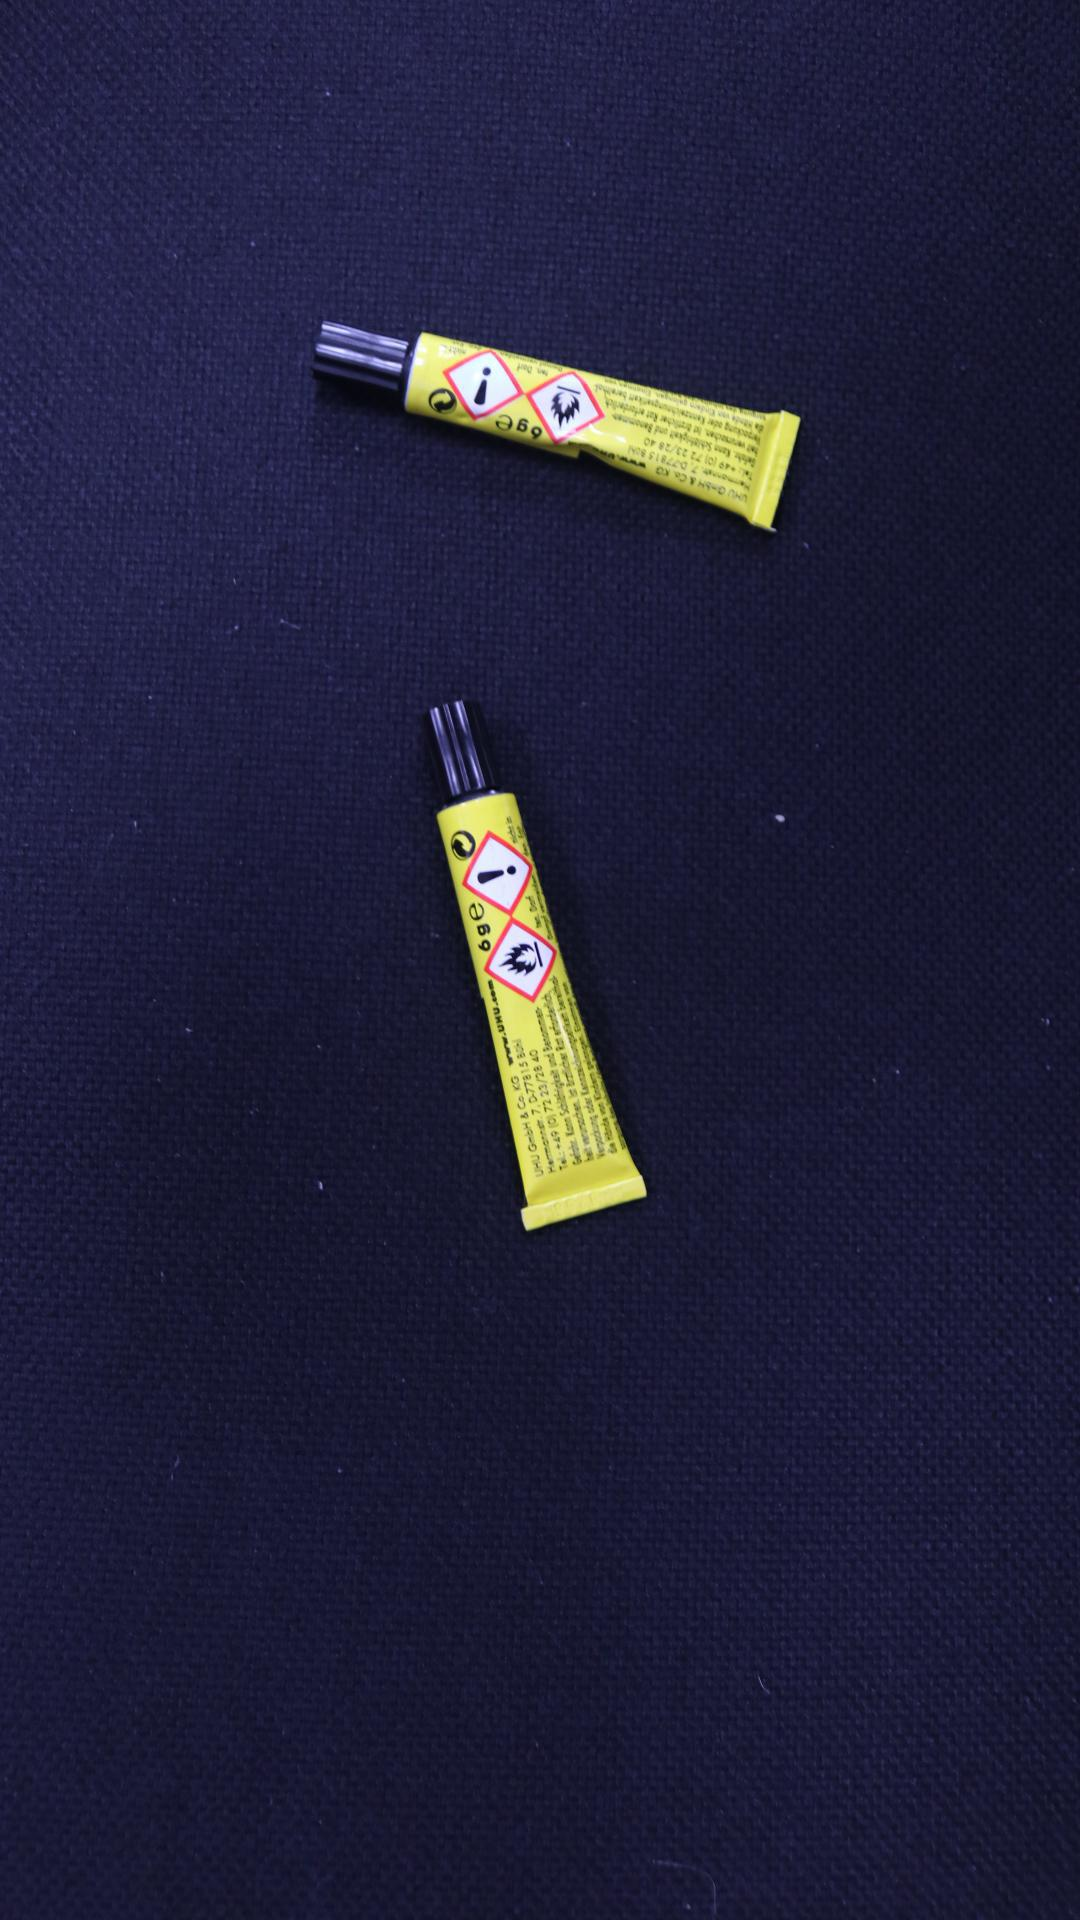Head: (356, 350, 368, 363), (455, 745, 464, 754)
Tail: (575, 1198, 589, 1211), (771, 466, 784, 479)
Tube: (422, 698, 649, 1230), (310, 318, 804, 535)
